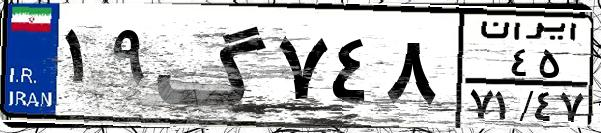1: (57, 26, 110, 100), (495, 70, 520, 125)
4: (330, 28, 385, 110), (508, 27, 537, 80), (535, 70, 560, 125)
5: (537, 27, 568, 80)
7: (270, 28, 330, 110), (560, 70, 590, 125), (470, 70, 495, 125)
8: (385, 28, 445, 110)
9: (110, 28, 156, 98)
گ: (156, 12, 270, 120)
